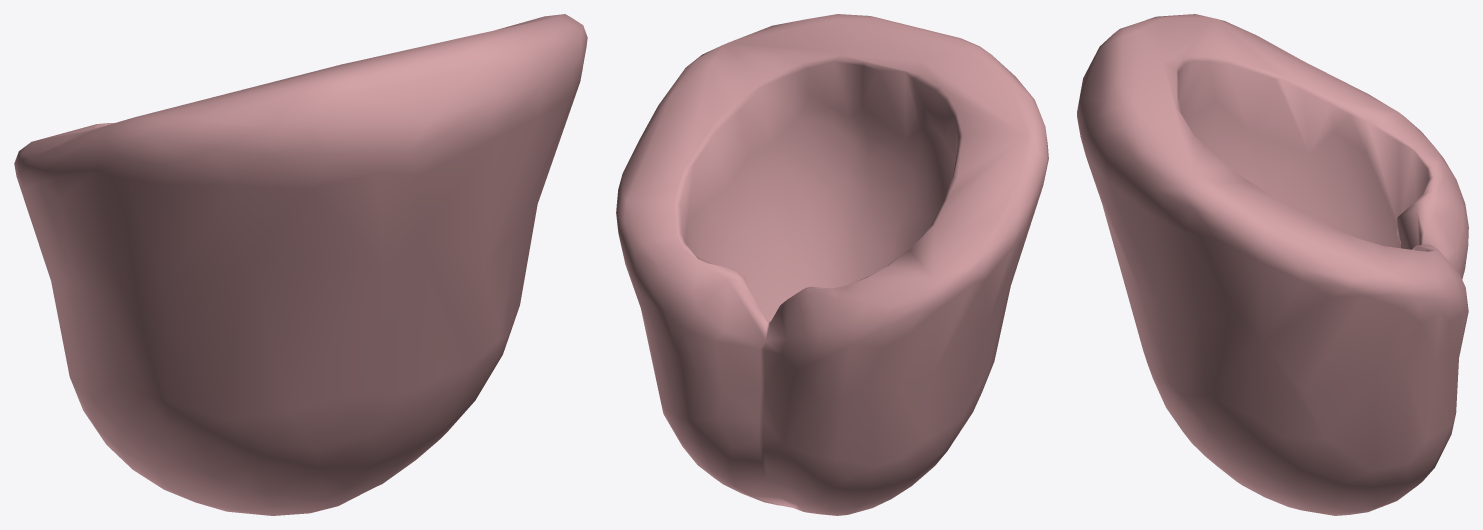
The picture shows the model from 3 angles, left to right: view 1: azimuth 30°, elevation 25°; view 2: azimuth 150°, elevation 25°; view 3: azimuth 270°, elevation 25°; orthographic projection. The views are drawn at different scales.
Parts seen in each view (by area): view 1: ZA_29295a3c5ede2af3; view 2: ZA_29295a3c5ede2af3; view 3: ZA_29295a3c5ede2af3.
Part boxes in pixels (x1,y1,x2,y2): ZA_29295a3c5ede2af3: [14, 14, 587, 515]; ZA_29295a3c5ede2af3: [616, 14, 1048, 515]; ZA_29295a3c5ede2af3: [1077, 14, 1468, 515].
Size of the model in its own units: 0.0308 by 0.0315 by 0.0257.
